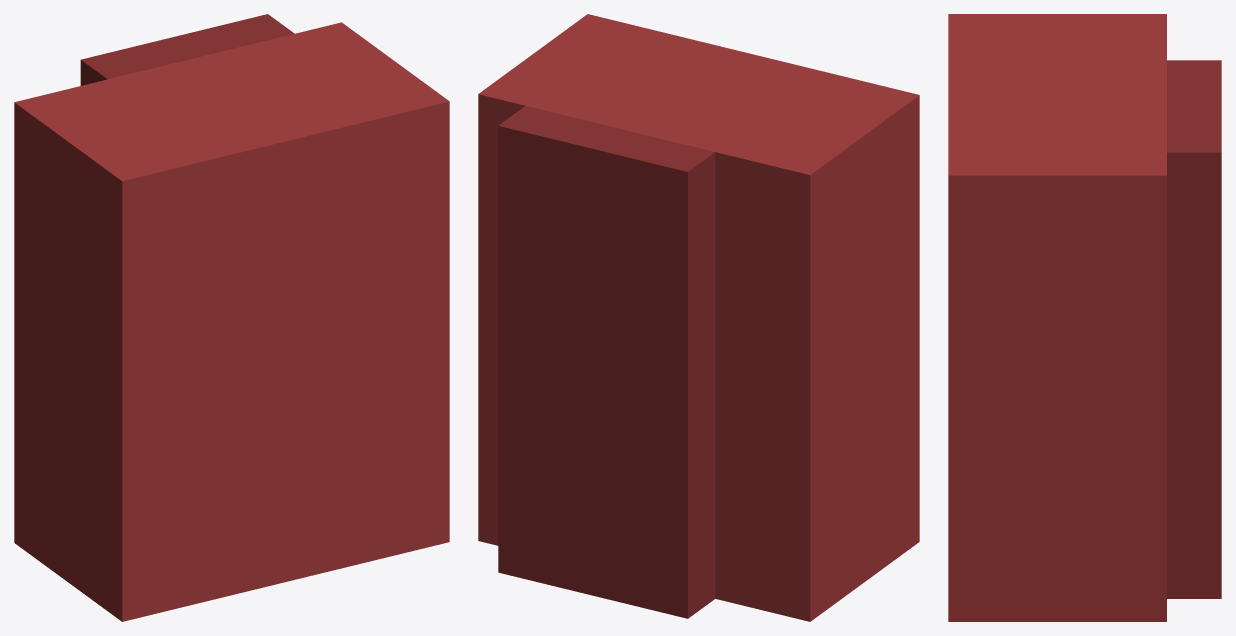
The model's file is legendario_pechera_orco_01.glb.
3 renders of one model, left to right at view 1: azimuth 30°, elevation 25°; view 2: azimuth 150°, elevation 25°; view 3: azimuth 270°, elevation 25°, orthographic.
Parts seen in each view (by area): view 1: legendario_pechera_orco; view 2: legendario_pechera_orco; view 3: legendario_pechera_orco.
Boxes of the visible parts, box(x1,y1,x2,y2) form: legendario_pechera_orco: box(14, 14, 449, 621); legendario_pechera_orco: box(478, 14, 919, 621); legendario_pechera_orco: box(948, 14, 1221, 621).
Size of the model in its own units: 0.5833 by 0.75 by 0.4167.
